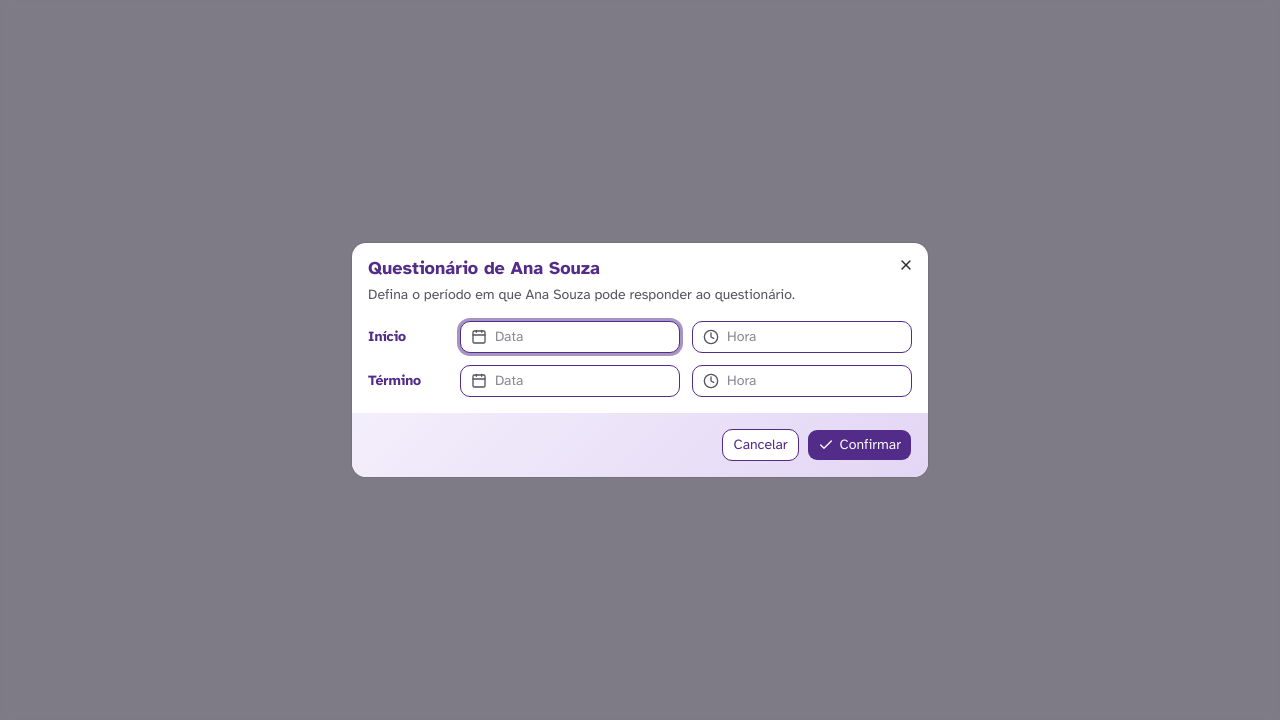
Test: ManageQuestionnaireDialog › não salva com o formulário vazio: mostra os erros
Click the button "Confirmar" at [859, 445], box [806,429,912,461]
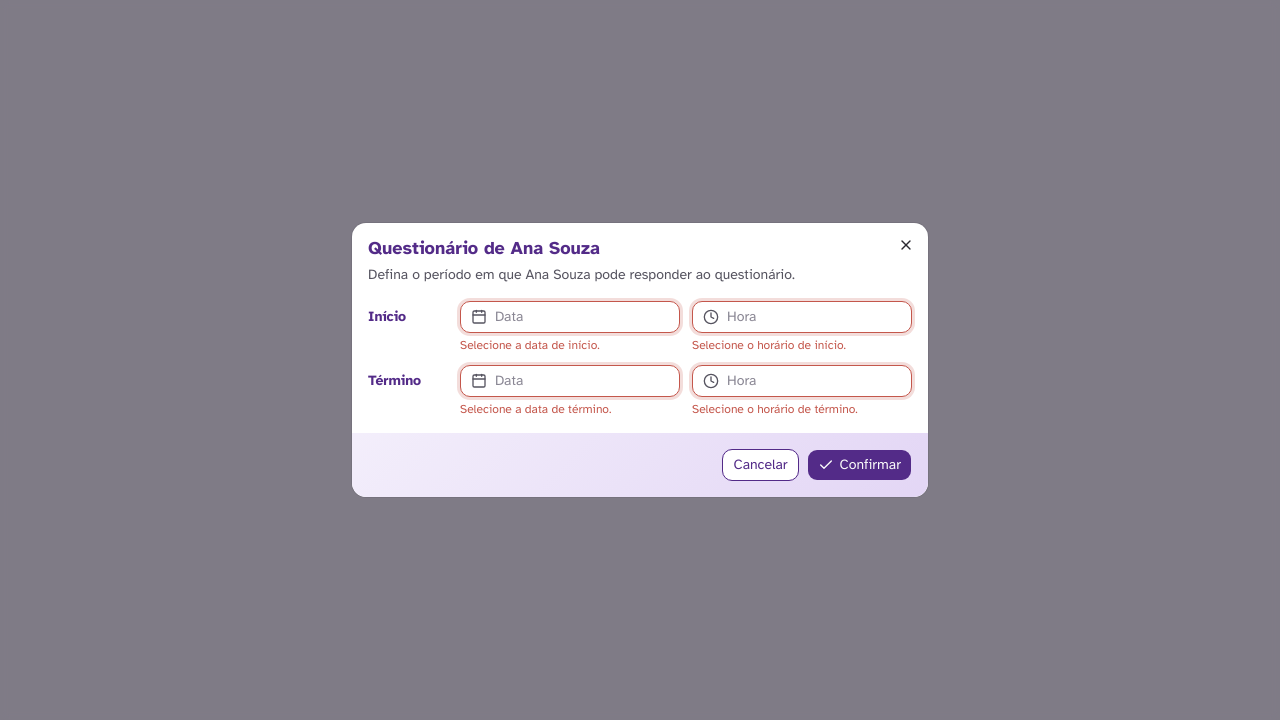
Check: the text "Selecione a data de início." is shown, box [460,338,600,352]
